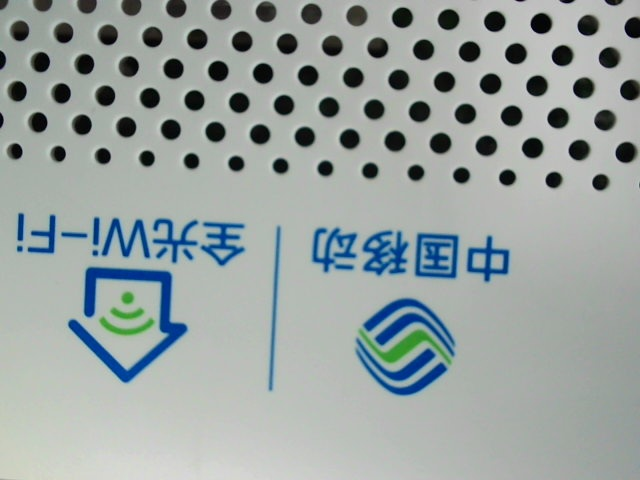BJ_QuanGuangMobile: (11, 195, 520, 396)
